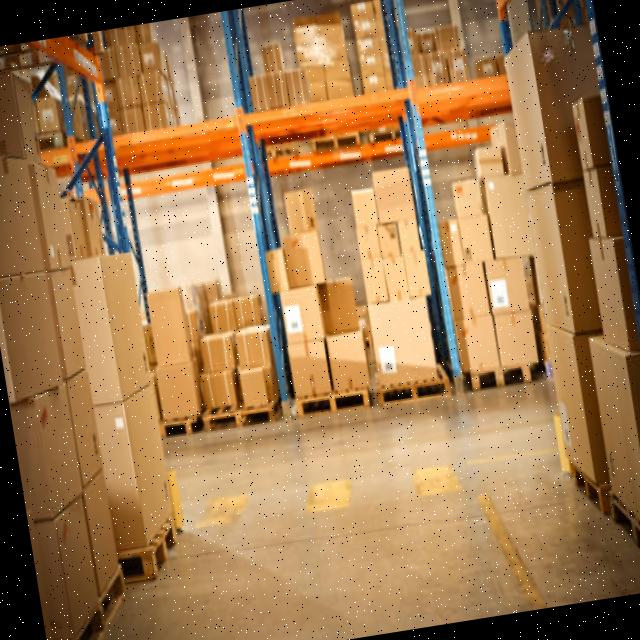Wooden-Pallets: (61, 550, 133, 640), (200, 398, 279, 439), (292, 382, 372, 422), (378, 371, 455, 412), (148, 511, 188, 579), (465, 358, 536, 396), (570, 452, 604, 522), (609, 485, 640, 556), (310, 125, 366, 156)
